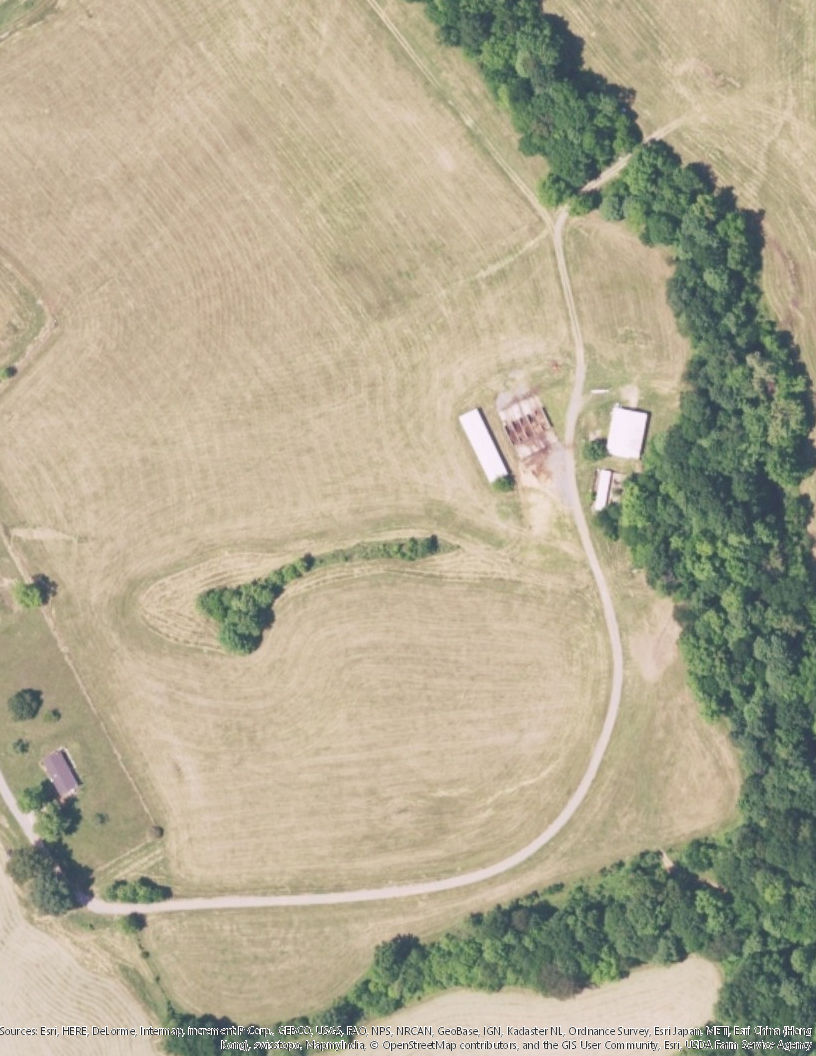cafo: (458, 405, 512, 483), (605, 402, 651, 463)
